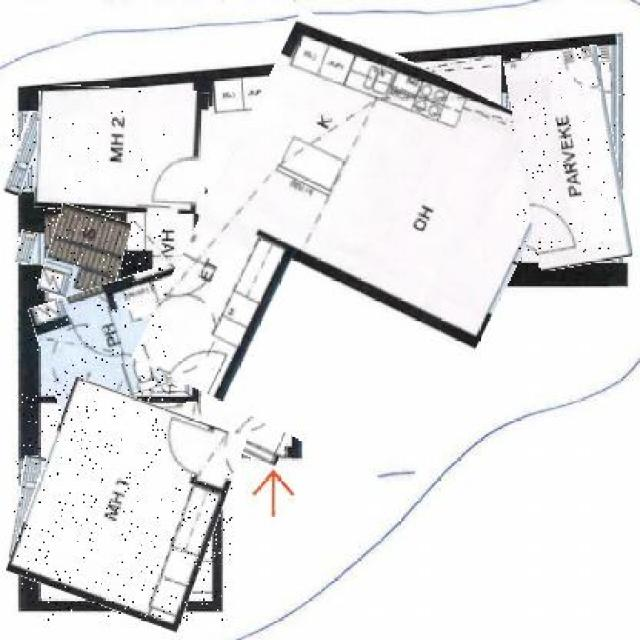door: (491, 185, 571, 260), (234, 391, 297, 463), (138, 403, 200, 460), (149, 148, 203, 208), (194, 330, 238, 372)
window: (494, 91, 529, 197), (12, 457, 46, 561), (9, 111, 42, 195), (15, 229, 36, 265)
zone: (166, 34, 542, 468), (21, 389, 232, 620), (512, 48, 625, 268), (35, 272, 202, 408), (35, 88, 208, 214), (42, 208, 126, 306), (124, 214, 198, 294)
